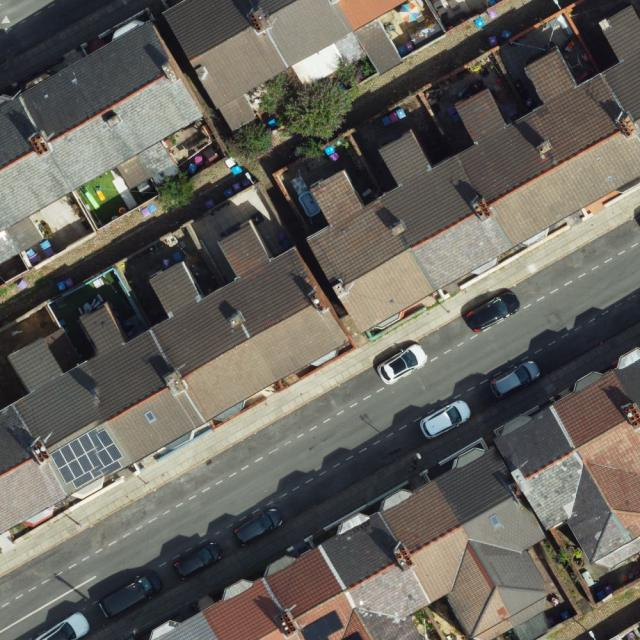roof: (149, 358, 640, 640), (307, 5, 640, 335), (0, 221, 350, 534), (0, 17, 209, 263), (162, 0, 409, 134)
skylight: (489, 511, 503, 530), (144, 409, 156, 425)
solar: (48, 426, 123, 488)
